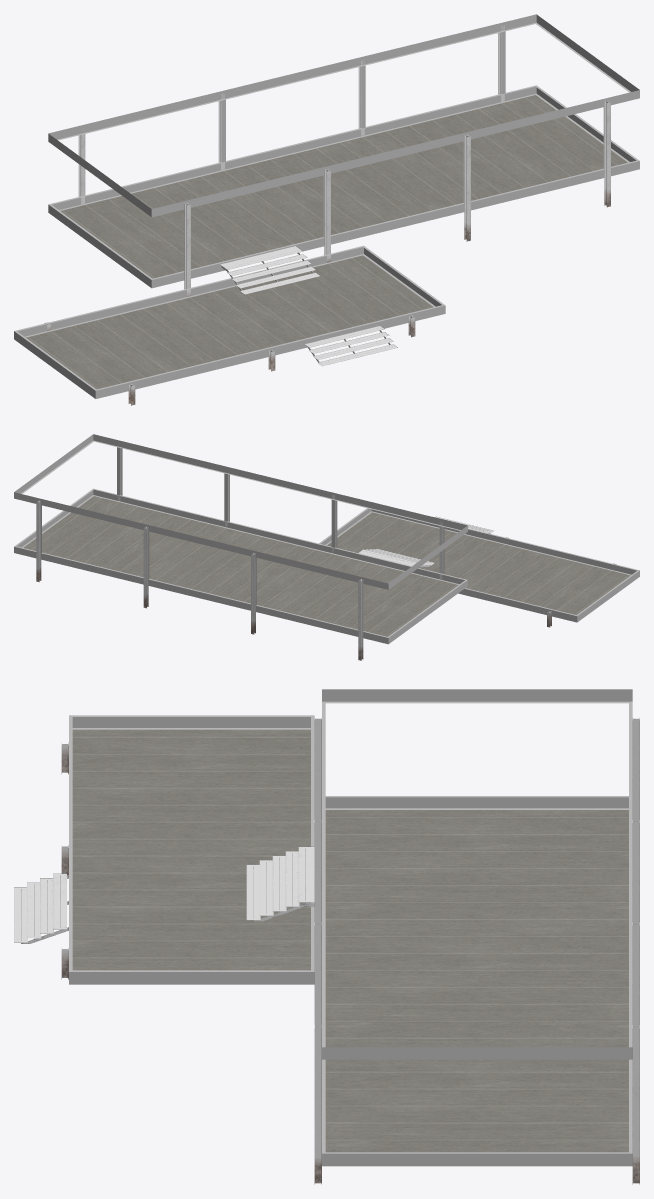
File: Edge.fbx
3 views of the same model, one above another, from view 1: azimuth 30°, elevation 25°; view 2: azimuth 150°, elevation 25°; view 3: azimuth 270°, elevation 25° (orthographic). The views are drawn at different scales.
Visible parts, largest first — view 1: MeshBaker__6__mesh_mesh; view 2: MeshBaker__6__mesh_mesh; view 3: MeshBaker__6__mesh_mesh.
Part boxes in pixels (left/top/right/bottom): MeshBaker__6__mesh_mesh: left=14, top=14, right=639, bottom=405; MeshBaker__6__mesh_mesh: left=14, top=434, right=639, bottom=660; MeshBaker__6__mesh_mesh: left=14, top=689, right=639, bottom=1184.
Bounding box in the file's own units: 3017 × 491 × 1732.
